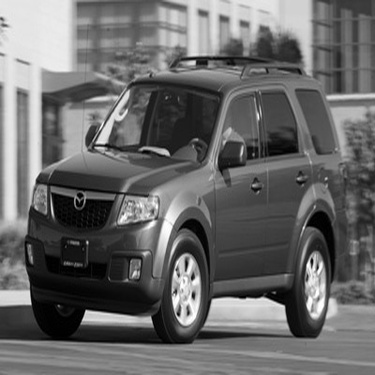car: (30, 49, 346, 350)
